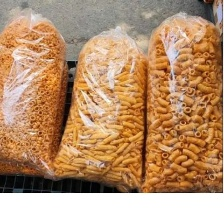snack: (41, 16, 154, 190), (140, 4, 224, 191), (0, 0, 75, 185)
